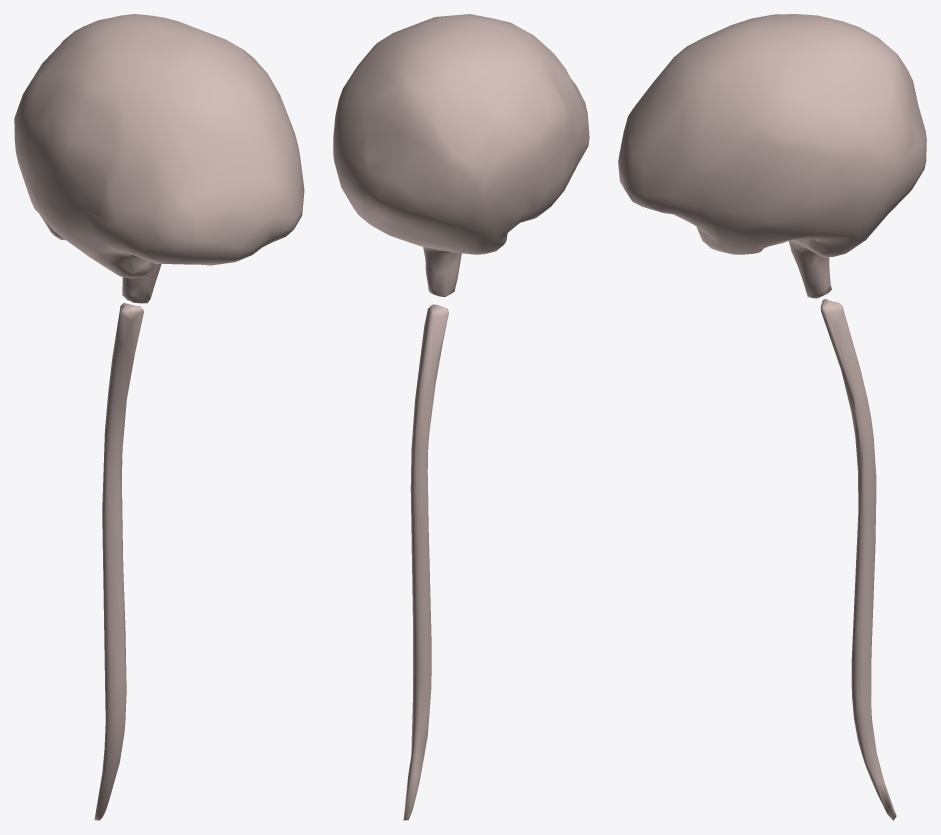
The model's file is pediatric_neonate_female.nervous.LOD1.glb.
The picture shows the model from 3 angles, left to right: view 1: azimuth 30°, elevation 25°; view 2: azimuth 150°, elevation 25°; view 3: azimuth 270°, elevation 25°; orthographic projection. The views are drawn at different scales.
Visible parts, largest first — view 1: PEDIATRIC.NEONATE.FEMALE.NERVOUS.BRAIN, PEDIATRIC.NEONATE.FEMALE.NERVOUS.SPINAL_CORD; view 2: PEDIATRIC.NEONATE.FEMALE.NERVOUS.BRAIN, PEDIATRIC.NEONATE.FEMALE.NERVOUS.SPINAL_CORD; view 3: PEDIATRIC.NEONATE.FEMALE.NERVOUS.BRAIN, PEDIATRIC.NEONATE.FEMALE.NERVOUS.SPINAL_CORD.
Boxes of the visible parts, bbox=[...] form: PEDIATRIC.NEONATE.FEMALE.NERVOUS.BRAIN: bbox=[14, 14, 304, 303]; PEDIATRIC.NEONATE.FEMALE.NERVOUS.SPINAL_CORD: bbox=[94, 303, 143, 820]; PEDIATRIC.NEONATE.FEMALE.NERVOUS.BRAIN: bbox=[333, 14, 589, 296]; PEDIATRIC.NEONATE.FEMALE.NERVOUS.SPINAL_CORD: bbox=[403, 304, 448, 820]; PEDIATRIC.NEONATE.FEMALE.NERVOUS.BRAIN: bbox=[618, 14, 926, 298]; PEDIATRIC.NEONATE.FEMALE.NERVOUS.SPINAL_CORD: bbox=[820, 299, 896, 820].
Bounding box in the file's own units: 0.0863 × 0.3024 × 0.1068.
